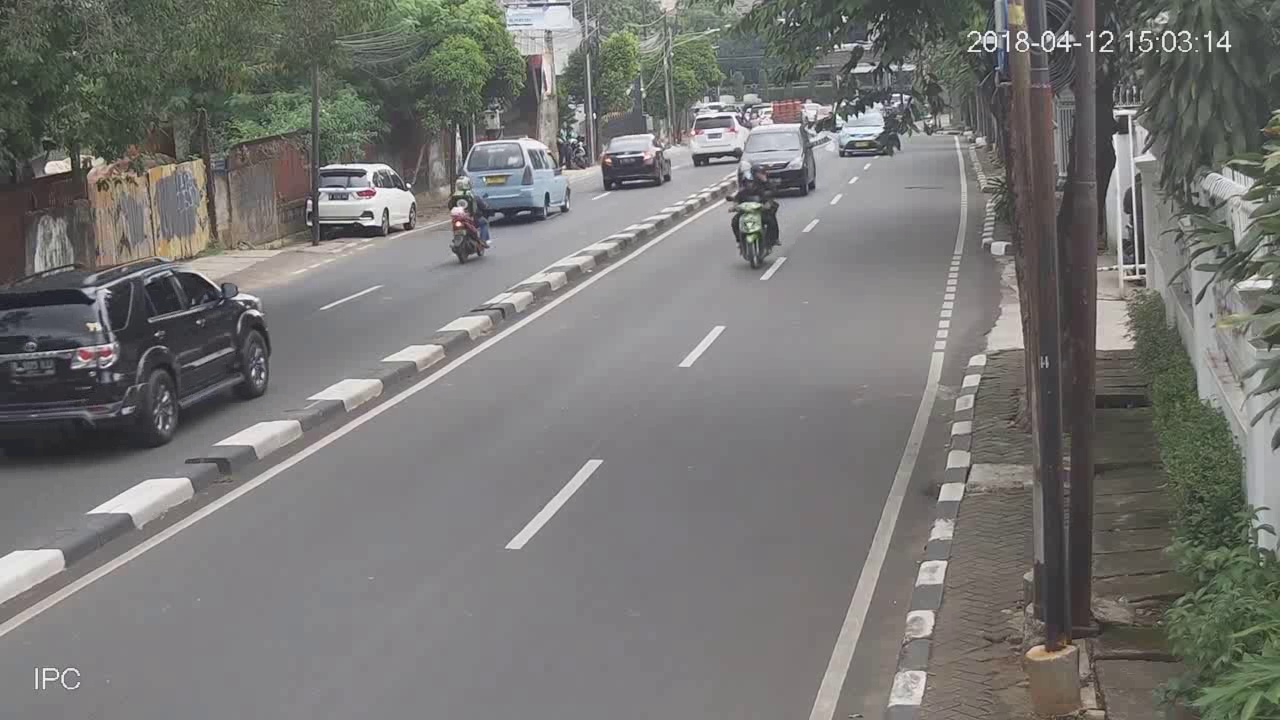car: (1, 257, 269, 444), (464, 139, 576, 220), (308, 163, 418, 240), (601, 134, 671, 193), (689, 112, 745, 166)
motorcycle: (724, 168, 783, 271), (444, 173, 497, 263)
